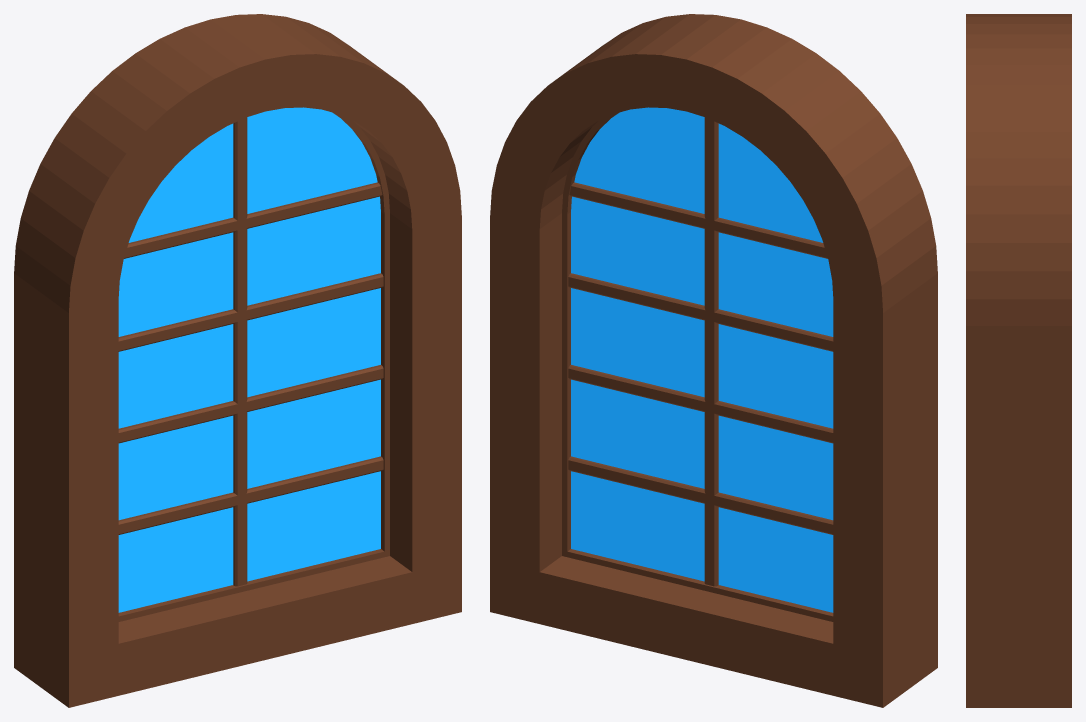
Rendered from janela_arco_2x5_madeira.glb.
3 renders of one model, left to right at view 1: azimuth 30°, elevation 25°; view 2: azimuth 150°, elevation 25°; view 3: azimuth 270°, elevation 25°, orthographic. The views are drawn at different scales.
Parts seen in each view (by area): view 1: janela_arco_2x5_madeira; view 2: janela_arco_2x5_madeira; view 3: janela_arco_2x5_madeira.
Boxes of the visible parts, <box> form: janela_arco_2x5_madeira: <box>14,14,461,707</box>; janela_arco_2x5_madeira: <box>490,14,937,707</box>; janela_arco_2x5_madeira: <box>966,14,1071,707</box>.
Size of the model in its own units: 0.87 by 1.27 by 0.21.
